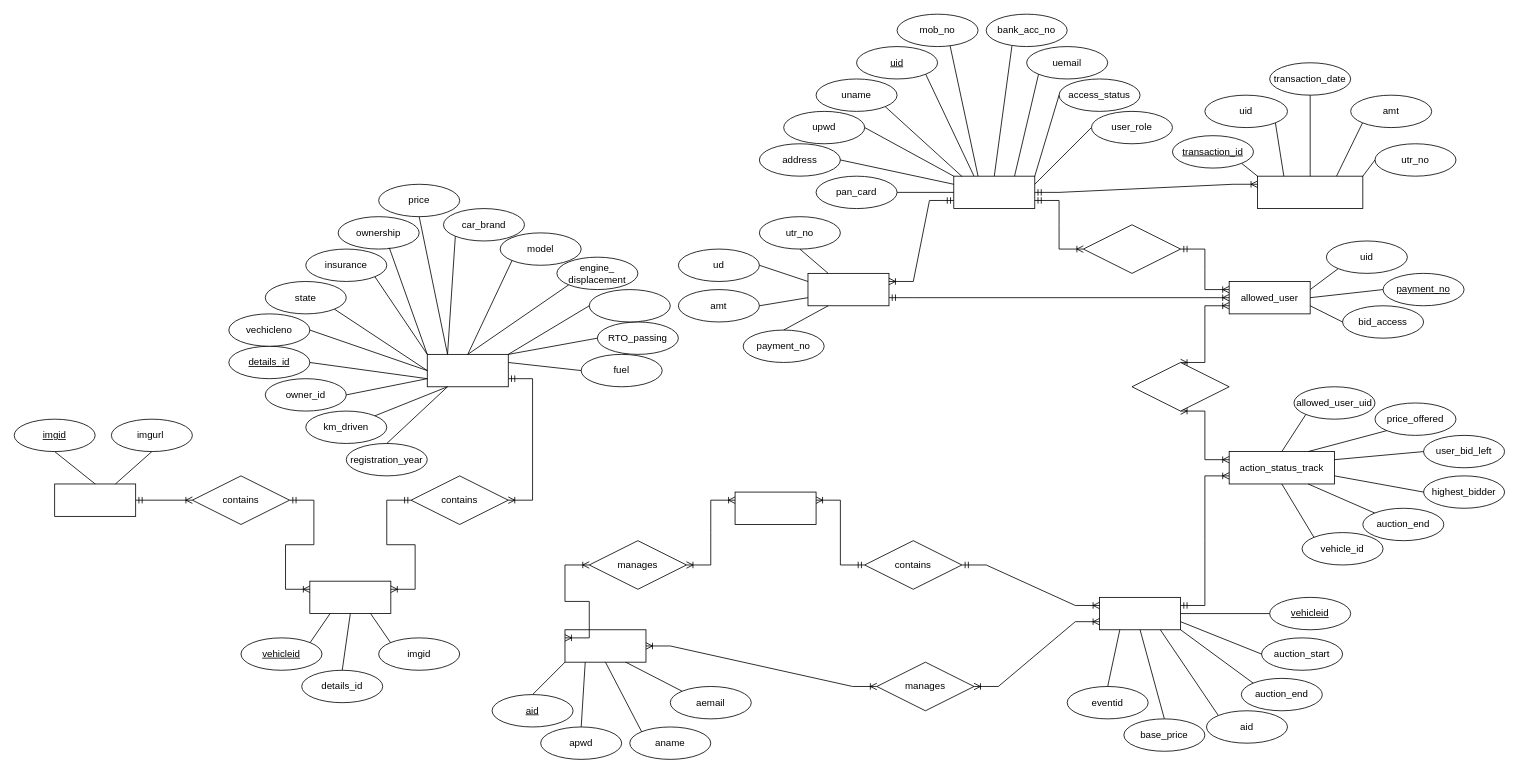
Image size: 1519x774. Some labels were removed from this diagram. The shapes that lost their labels are listed below. From the top down, each one's box as (x1, y1, x2, y2) in pixels, then its label:
(953, 175, 1035, 209): user
(1257, 175, 1363, 209): payment_transaction
(1083, 224, 1181, 273): belongs to
(588, 289, 670, 322): year_of_ manufacture
(807, 273, 889, 306): deposit_payment
(426, 354, 508, 387): vehicle_details
(1131, 362, 1229, 411): can participates
(54, 483, 136, 516): img
(734, 491, 816, 524): auction_list
(309, 580, 391, 614): total_vehicles
(1099, 597, 1181, 630): current_auction
(564, 629, 646, 662): admin
